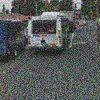buses: (27, 11, 75, 56)
